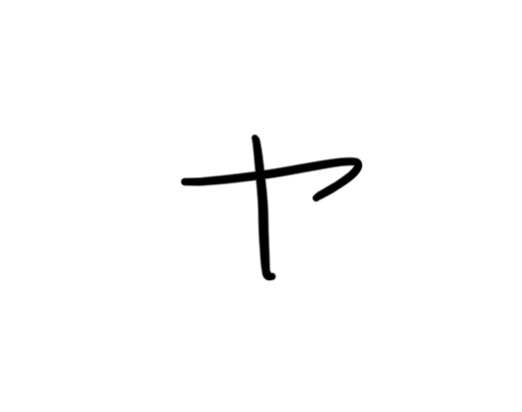ya: (172, 119, 372, 290)
